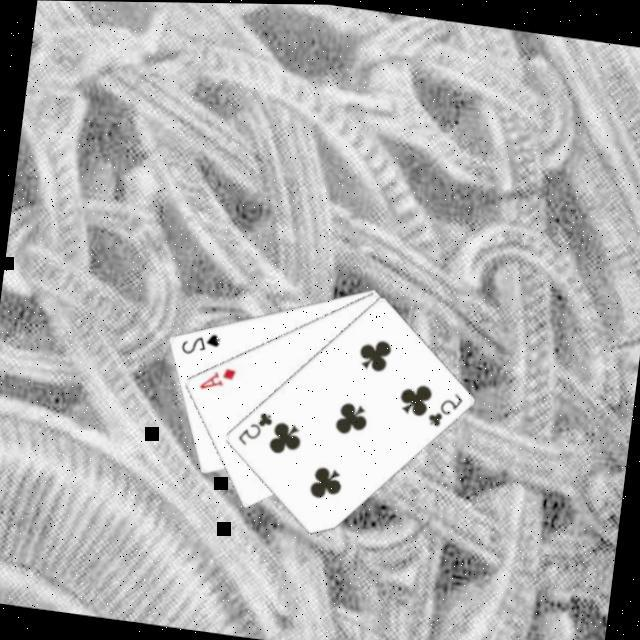2S: (176, 323, 223, 359)
5C: (232, 402, 276, 448), (422, 382, 464, 429)
AD: (193, 356, 239, 394)
